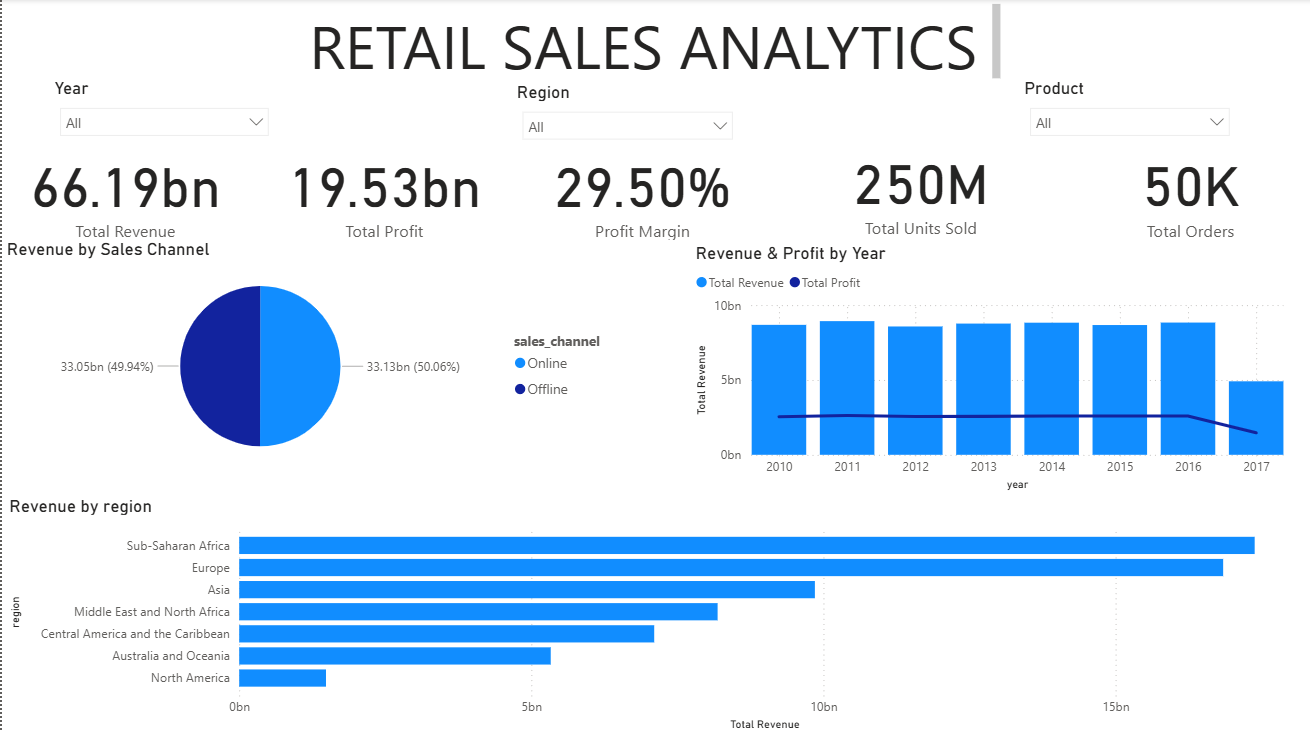

What the dashboard file says about the page in this screenshot:
{"tool":"powerbi","page":{"name":"executive_overview","canvas":[1280,720],"ordinal":0},"visuals":[{"type":"card","fields":{"Values":["retail_sales_analytics fact_sales.Total Revenue"]},"box":[0,135.8,242.1,104.9],"z":0},{"type":"card","fields":{"Values":["retail_sales_analytics fact_sales.Total Profit"]},"box":[271.7,135.8,205.8,104.9],"z":1000},{"type":"card","fields":{"Values":["retail_sales_analytics fact_sales.Profit Margin"]},"box":[524.5,135.8,204.4,104.9],"z":2000},{"type":"card","fields":{"Values":["retail_sales_analytics fact_sales.Total Units Sold"]},"box":[780,135.8,238,99.5],"z":3000},{"type":"card","fields":{"Values":["retail_sales_analytics fact_sales.Total Orders"]},"box":[1045.6,135.8,234.6,104.3],"z":4000},{"type":"lineClusteredColumnComboChart","title":"Revenue & Profit by Year","fields":{"Category":["retail_sales_analytics dim_date.year"],"Y":["retail_sales_analytics fact_sales.Total Revenue"],"Y2":["retail_sales_analytics fact_sales.Total Profit"]},"box":[429,240.7,829.8,244.8],"z":5000},{"type":"clusteredBarChart","title":"Revenue by region","fields":{"Category":["retail_sales_analytics dim_geography.region"],"Y":["retail_sales_analytics fact_sales.Total Revenue"]},"box":[2.7,485.5,1277.6,235.3],"z":6000},{"type":"donutChart","title":"Revenue by Sales Channel","fields":{"Category":["retail_sales_analytics dim_sales_channel.sales_channel"],"Y":["retail_sales_analytics fact_sales.Total Revenue"]},"box":[0,240.7,429,232.7],"z":7000},{"type":"slicer","title":"Year","fields":{"Values":["retail_sales_analytics dim_date.year"]},"box":[47.1,76.7,224.6,64.6],"z":8000},{"type":"slicer","title":"Region","fields":{"Values":["retail_sales_analytics dim_geography.region"]},"box":[498.9,80.7,225.9,64.6],"z":9000},{"type":"slicer","title":"Product","fields":{"Values":["retail_sales_analytics dim_product.item_type"]},"box":[994.9,76.8,215.4,79.6],"z":10000},{"type":"textbox","box":[296.4,0,686.1,85.1],"z":11000}]}

Visuals, with their boxes in screenshot pixels (x1, y1, x2, y2), scaled from the page's 1280x720 canvas onto the 1310x732 screenshot:
card - retail_sales_analytics fact_sales.Total Revenue: region(0, 138, 248, 245)
card - retail_sales_analytics fact_sales.Total Profit: region(278, 138, 489, 245)
card - retail_sales_analytics fact_sales.Profit Margin: region(537, 138, 746, 245)
card - retail_sales_analytics fact_sales.Total Units Sold: region(798, 138, 1042, 239)
card - retail_sales_analytics fact_sales.Total Orders: region(1070, 138, 1309, 244)
"Revenue & Profit by Year" lineClusteredColumnComboChart: region(439, 245, 1288, 494)
"Revenue by region" clusteredBarChart: region(3, 494, 1309, 731)
"Revenue by Sales Channel" donutChart: region(0, 245, 439, 481)
"Year" slicer: region(48, 78, 278, 144)
"Region" slicer: region(511, 82, 742, 148)
"Product" slicer: region(1018, 78, 1239, 159)
textbox: region(303, 0, 1006, 87)
